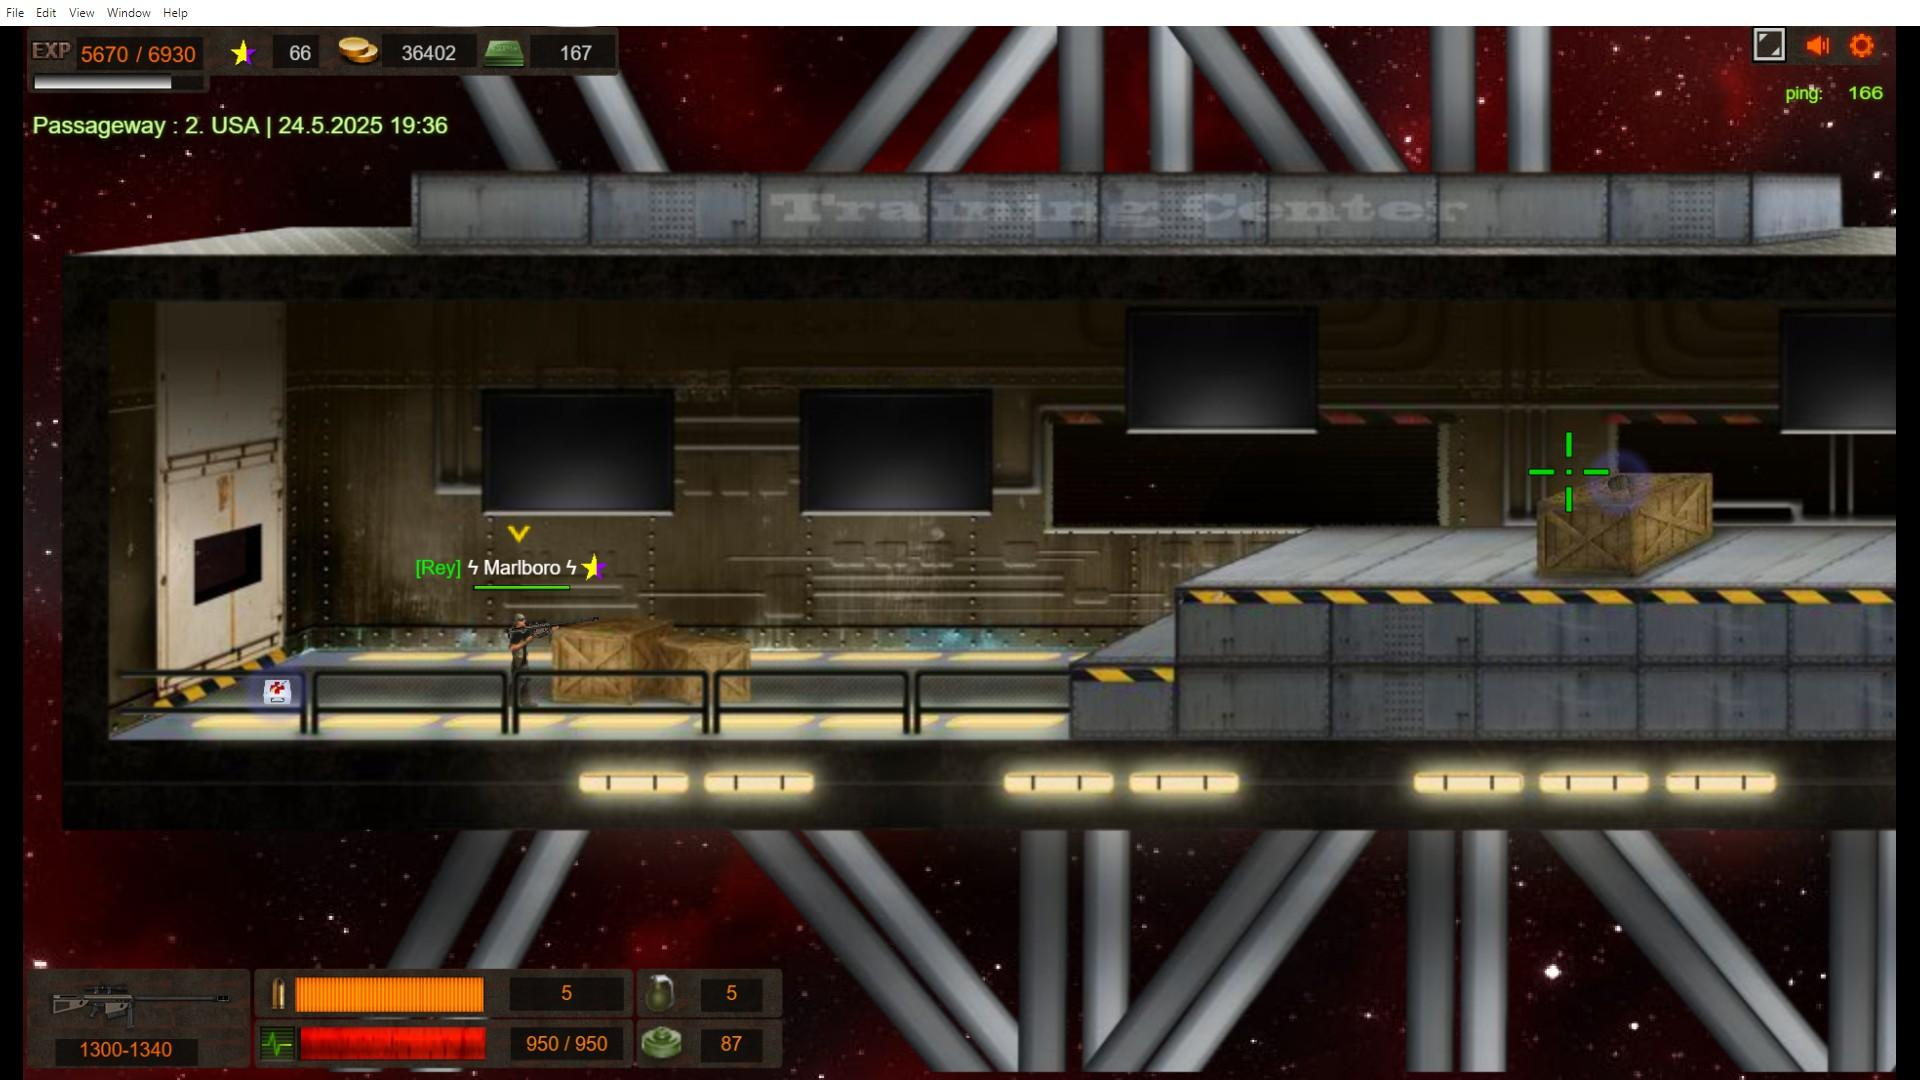enemy: (506, 616, 534, 702)
